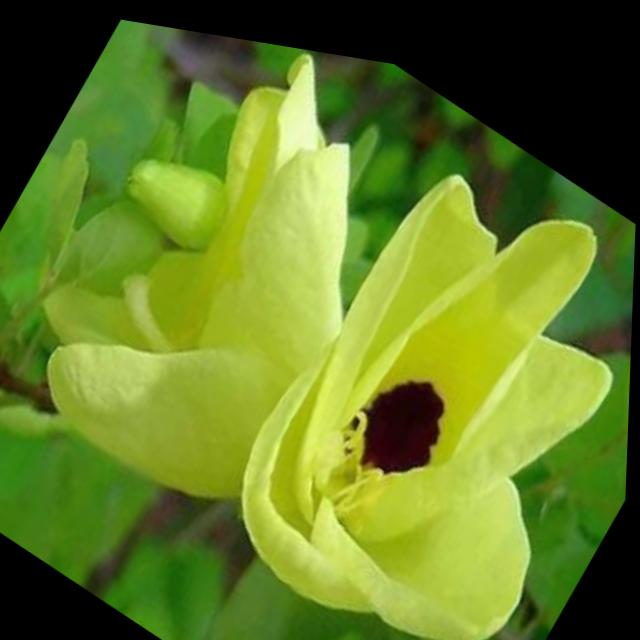Flower: (219, 100, 638, 640)
